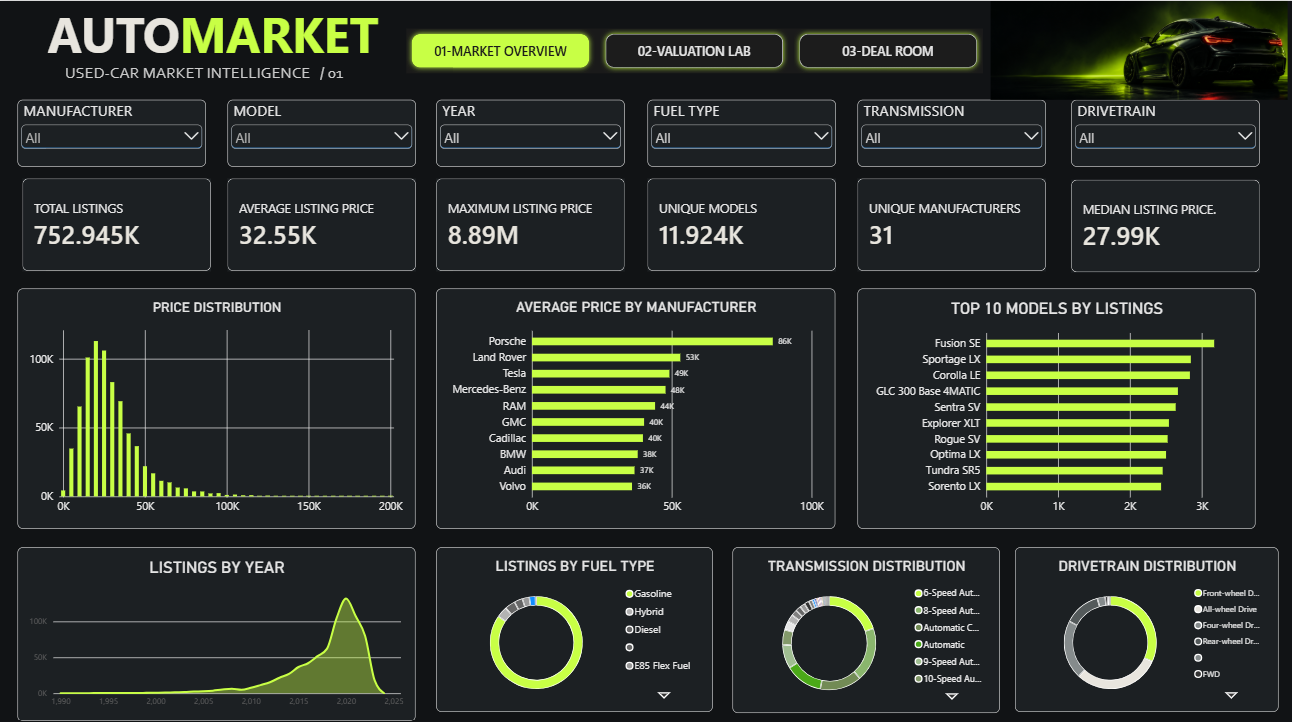

This screenshot's page, from the dashboard's own definition file:
{"tool":"powerbi","page":{"name":"01-MARKET OVERVIEW","canvas":[1920,1080],"ordinal":0},"visuals":[{"type":"textbox","box":[69.8,0,600,179.7],"z":0},{"type":"textbox","box":[95.9,90.7,450,310.5],"z":1000},{"type":"cardVisual","fields":{"Data":["CountNonNull(cars_preprocessed.manufacturer)"]},"box":[33.1,263.4,279.1,137.8],"z":2000},{"type":"cardVisual","fields":{"Data":["Avg(cars_preprocessed.price)"]},"box":[336.6,263.4,279.1,137.8],"z":3000},{"type":"cardVisual","fields":{"Data":["Median(cars_preprocessed.price)"]},"box":[1587.2,265.1,279.1,137.8],"z":4000},{"type":"cardVisual","fields":{"Data":["Max(cars_preprocessed.price)"]},"box":[647.1,263.4,279.1,137.8],"z":5000},{"type":"cardVisual","fields":{"Data":["Count(cars_preprocessed.manufacturer)"]},"box":[1269.8,263.4,279.1,137.8],"z":6000},{"type":"cardVisual","fields":{"Data":["Count(cars_preprocessed.model)"]},"box":[959.3,263.4,279.1,137.8],"z":7000},{"type":"slicer","fields":{"Values":["cars_preprocessed.manufacturer"]},"box":[26.2,146.5,279.1,99.4],"z":8000},{"type":"slicer","fields":{"Values":["cars_preprocessed.model"]},"box":[336.6,146.5,279.1,99.4],"z":9000},{"type":"slicer","fields":{"Values":["cars_preprocessed.year"]},"box":[647.1,146.5,279.1,99.4],"z":10000},{"type":"slicer","fields":{"Values":["cars_preprocessed.fuel_type"]},"box":[959.3,146.5,279.1,99.4],"z":11000},{"type":"slicer","fields":{"Values":["cars_preprocessed.transmission"]},"box":[1269.8,146.5,279.1,99.4],"z":12000},{"type":"slicer","fields":{"Values":["cars_preprocessed.drivetrain"]},"box":[1587.2,146.5,279.1,99.4],"z":13000},{"type":"clusteredColumnChart","title":"PRICE DISTRIBUTION","fields":{"Category":["cars_preprocessed.price (bins)"],"Y":["CountNonNull(cars_preprocessed.price)"]},"box":[26.2,425.6,589.5,355.8],"z":14000},{"type":"clusteredBarChart","title":"AVERAGE PRICE BY MANUFACTURER","fields":{"Category":["cars_preprocessed.manufacturer"],"Y":["Avg(cars_preprocessed.price)"]},"box":[647.1,425.6,591.3,355.8],"z":15000},{"type":"clusteredBarChart","title":"TOP 10 MODELS BY LISTINGS","fields":{"Category":["cars_preprocessed.model"],"Y":["CountNonNull(cars_preprocessed.manufacturer)"]},"box":[1269.8,425.6,589.5,355.8],"z":16000},{"type":"areaChart","title":"LISTINGS BY YEAR","fields":{"Category":["cars_preprocessed.year"],"Y":["CountNonNull(cars_preprocessed.manufacturer)"]},"box":[26.2,809.3,589.5,258.1],"z":17000},{"type":"donutChart","title":"LISTINGS BY FUEL TYPE","fields":{"Category":["cars_preprocessed.fuel_type"],"Y":["CountNonNull(cars_preprocessed.fuel_type)"]},"box":[647.1,809.3,409.9,244.2],"z":18000},{"type":"donutChart","title":"TRANSMISSION DISTRIBUTION","fields":{"Category":["cars_preprocessed.transmission"],"Y":["CountNonNull(cars_preprocessed.transmission)"]},"box":[1084.9,809.3,395.9,245.9],"z":19000},{"type":"donutChart","title":"DRIVETRAIN DISTRIBUTION","fields":{"Category":["cars_preprocessed.drivetrain"],"Y":["CountNonNull(cars_preprocessed.drivetrain)"]},"box":[1503.5,809.3,390.7,244.2],"z":20000},{"type":"image","box":[1456.4,0,464,146.5],"z":21000},{"type":"pageNavigator","box":[601.9,40.7,854.7,66.3],"z":21001}]}

Visuals, with their boxes in screenshot pixels (x1, y1, x2, y2), scaled from the page's 1920x1080 canvas onto the 1292x722 screenshot:
textbox: {"left": 47, "top": 0, "right": 451, "bottom": 120}
textbox: {"left": 65, "top": 61, "right": 367, "bottom": 268}
cardVisual - CountNonNull(cars_preprocessed.manufacturer): {"left": 22, "top": 176, "right": 210, "bottom": 268}
cardVisual - Avg(cars_preprocessed.price): {"left": 227, "top": 176, "right": 414, "bottom": 268}
cardVisual - Median(cars_preprocessed.price): {"left": 1068, "top": 177, "right": 1256, "bottom": 269}
cardVisual - Max(cars_preprocessed.price): {"left": 435, "top": 176, "right": 623, "bottom": 268}
cardVisual - Count(cars_preprocessed.manufacturer): {"left": 854, "top": 176, "right": 1042, "bottom": 268}
cardVisual - Count(cars_preprocessed.model): {"left": 646, "top": 176, "right": 833, "bottom": 268}
slicer - cars_preprocessed.manufacturer: {"left": 18, "top": 98, "right": 205, "bottom": 164}
slicer - cars_preprocessed.model: {"left": 227, "top": 98, "right": 414, "bottom": 164}
slicer - cars_preprocessed.year: {"left": 435, "top": 98, "right": 623, "bottom": 164}
slicer - cars_preprocessed.fuel_type: {"left": 646, "top": 98, "right": 833, "bottom": 164}
slicer - cars_preprocessed.transmission: {"left": 854, "top": 98, "right": 1042, "bottom": 164}
slicer - cars_preprocessed.drivetrain: {"left": 1068, "top": 98, "right": 1256, "bottom": 164}
"PRICE DISTRIBUTION" clusteredColumnChart: {"left": 18, "top": 285, "right": 414, "bottom": 522}
"AVERAGE PRICE BY MANUFACTURER" clusteredBarChart: {"left": 435, "top": 285, "right": 833, "bottom": 522}
"TOP 10 MODELS BY LISTINGS" clusteredBarChart: {"left": 854, "top": 285, "right": 1251, "bottom": 522}
"LISTINGS BY YEAR" areaChart: {"left": 18, "top": 541, "right": 414, "bottom": 714}
"LISTINGS BY FUEL TYPE" donutChart: {"left": 435, "top": 541, "right": 711, "bottom": 704}
"TRANSMISSION DISTRIBUTION" donutChart: {"left": 730, "top": 541, "right": 996, "bottom": 705}
"DRIVETRAIN DISTRIBUTION" donutChart: {"left": 1012, "top": 541, "right": 1275, "bottom": 704}
image: {"left": 980, "top": 0, "right": 1291, "bottom": 98}
pageNavigator: {"left": 405, "top": 27, "right": 980, "bottom": 72}
